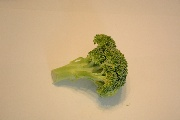broccoli: (49, 33, 127, 97)
